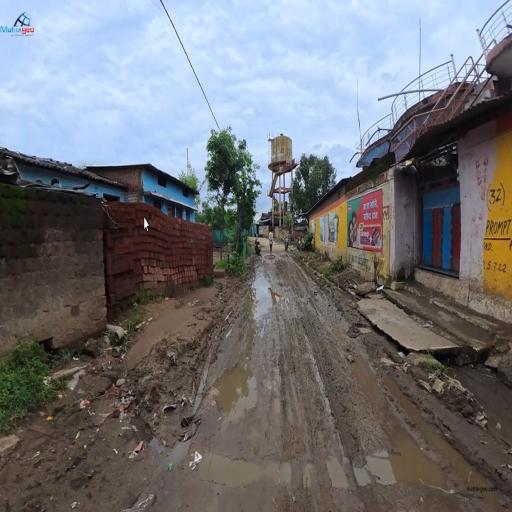pothole: (225, 349, 271, 437)
